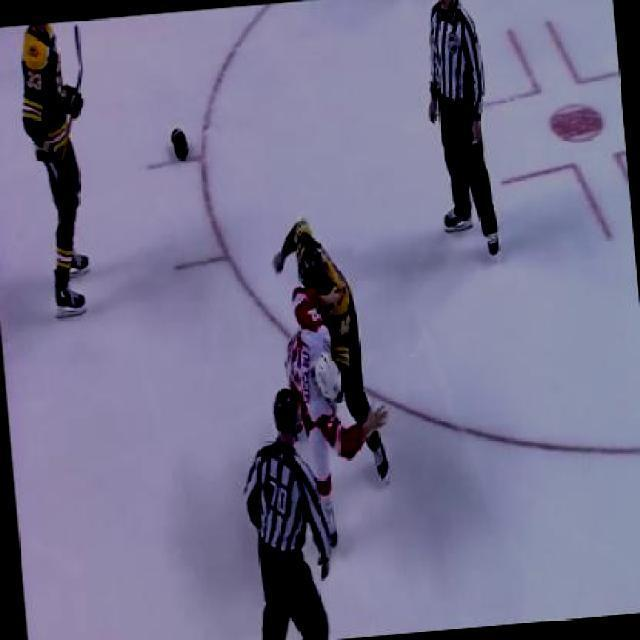fight: (271, 216, 398, 562)
non-fight: (15, 20, 109, 328), (416, 0, 506, 271)
